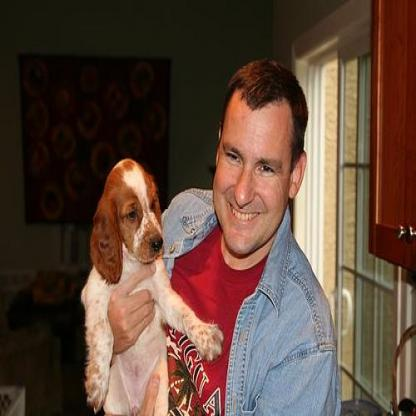Welsh_springer_spaniel: (80, 158, 223, 414)
